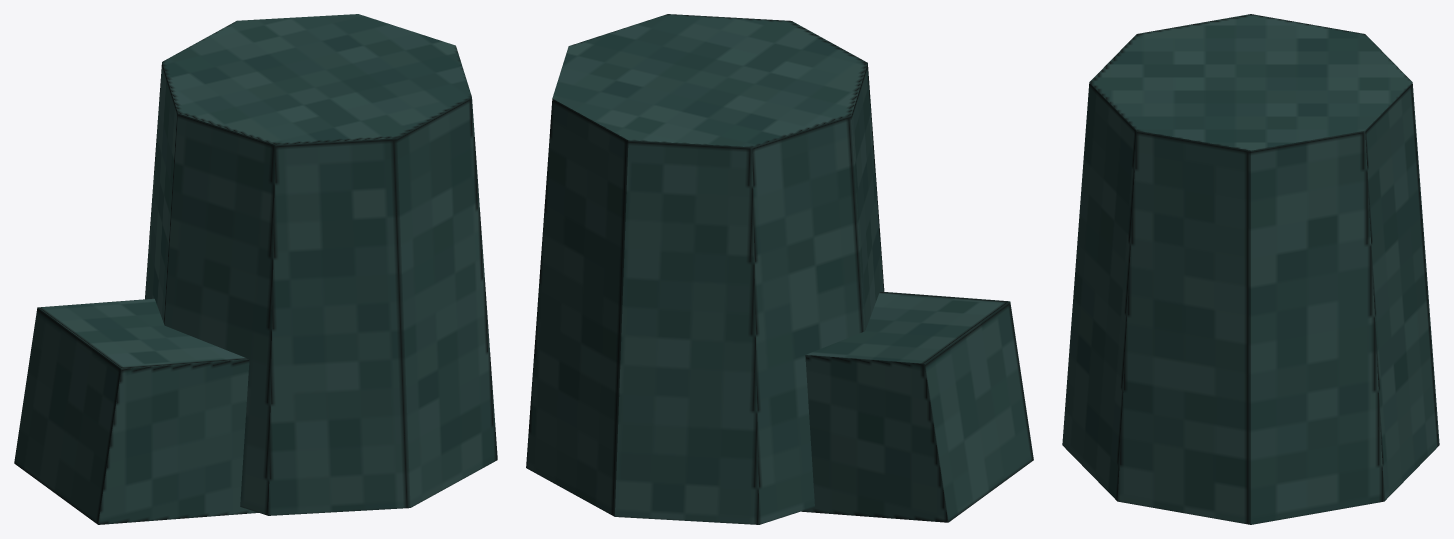
Rendered from channels_pump_house_structure.obj.
3 views of the same model, side by side, from view 1: azimuth 30°, elevation 25°; view 2: azimuth 150°, elevation 25°; view 3: azimuth 270°, elevation 25° (orthographic).
Size of the model in its own units: 6.51 by 5.41 by 4.9.
Materials: 1 (1 with a texture image).
